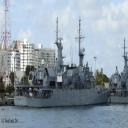Fragata: (13, 17, 113, 108)
